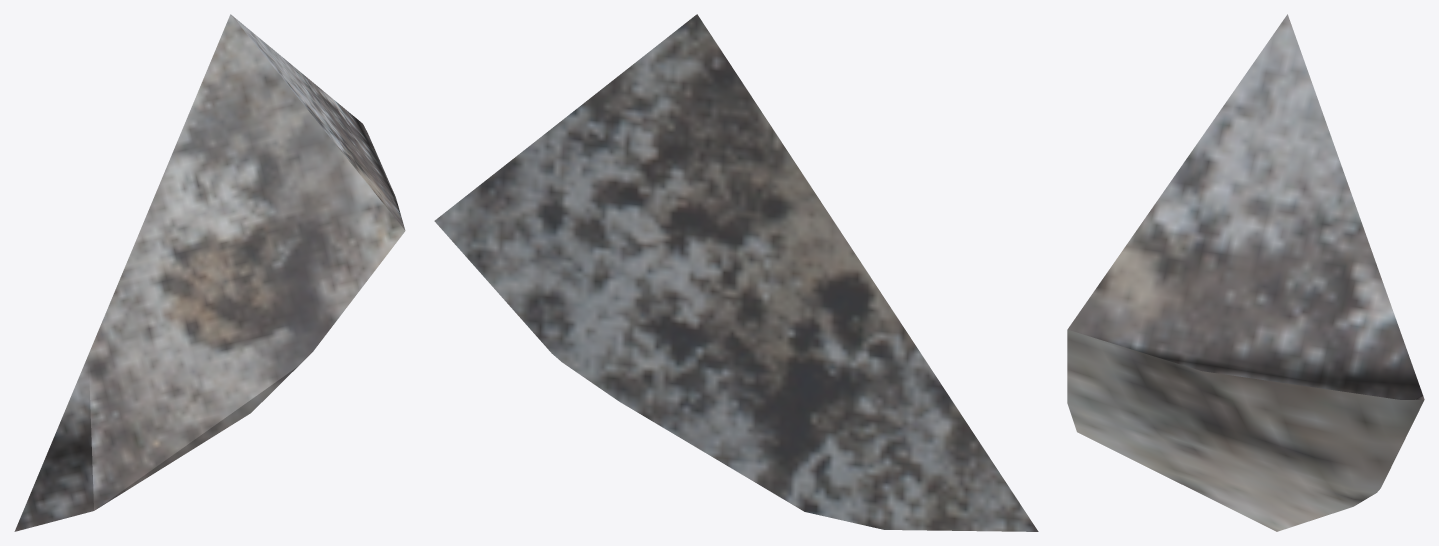
Rendered from Asteroid_Large_001_02_001_03_024.fbx.
3 renders of one model, left to right at view 1: azimuth 30°, elevation 25°; view 2: azimuth 150°, elevation 25°; view 3: azimuth 270°, elevation 25°, orthographic. The views are drawn at different scales.
Parts seen in each view (by area): view 1: Asteroid_Large_001_02_001_03_024; view 2: Asteroid_Large_001_02_001_03_024; view 3: Asteroid_Large_001_02_001_03_024.
Boxes of the visible parts, bbox=[...] form: Asteroid_Large_001_02_001_03_024: bbox=[14, 14, 405, 531]; Asteroid_Large_001_02_001_03_024: bbox=[434, 14, 1038, 531]; Asteroid_Large_001_02_001_03_024: bbox=[1067, 14, 1424, 531].
Bounding box in the file's own units: 5.24 × 4.9 × 2.67.
